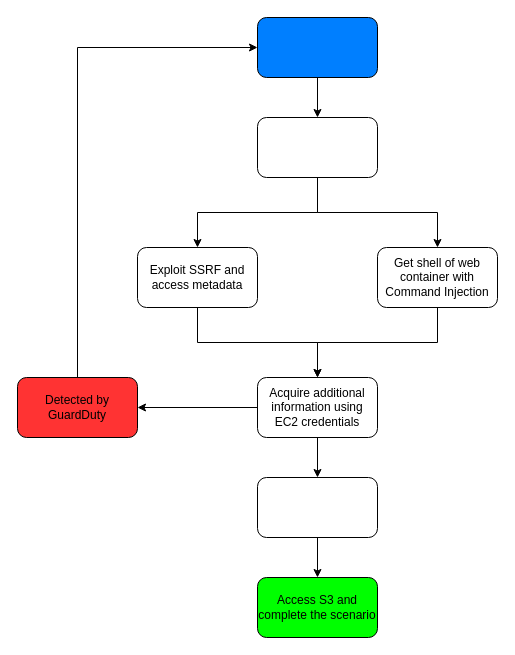
The diagram is 515 pixels wide and 655 high, and some of its shapes have lost their labels. The box of each missing label's shape, as (x1, y1, x2, y2) in pixels:
Privesc with ECS: (256, 476, 378, 538)
Start as a web user: (256, 16, 378, 78)
Vulnerability Analysis for Web: (256, 116, 378, 178)
